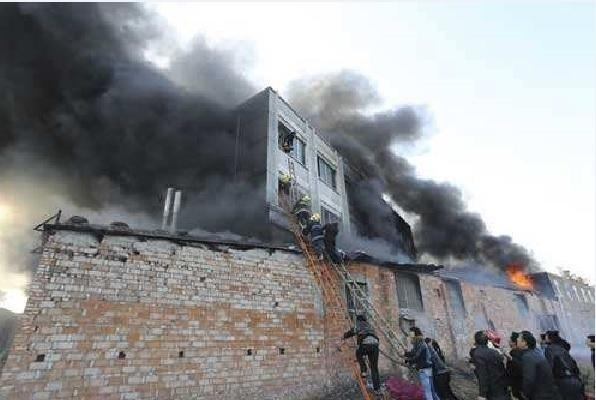fire: (505, 264, 533, 288)
